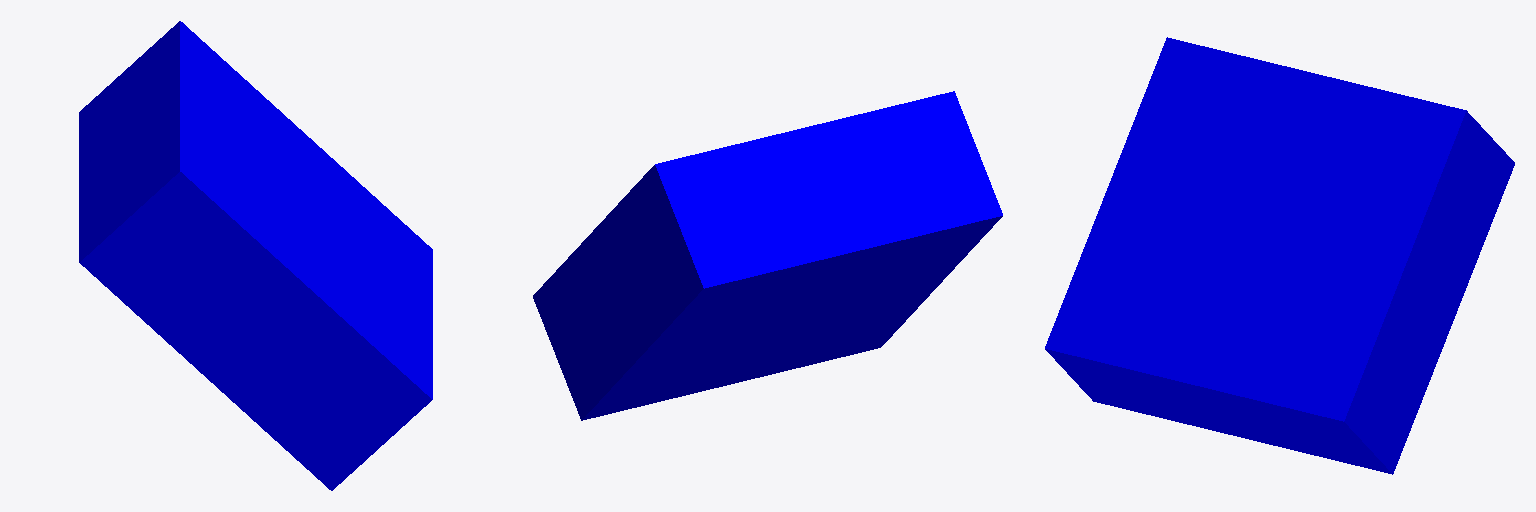
URDF robot description (panda):
<?xml version="1.0" ?>
<!-- =================================================================================== -->
<!-- |    This document was autogenerated by xacro from [local-path]/ws/src/panda_configuration/panda_description/urdf/panda.urdf.xacro | -->
<!-- |    EDITING THIS FILE BY HAND IS NOT RECOMMENDED                                 | -->
<!-- =================================================================================== -->
<!-- URDF for Franka Emika Panda -->
<robot name="panda">
  <link name="world">
    <inertial>
      <mass value="1e-5"/>
      <inertia ixx="1e-35" ixy="0.0" ixz="0.0" iyy="1e-35" iyz="0.0" izz="1e-35"/>
    </inertial>
  </link>
  <gazebo reference="world_virtual_joint">
    <preserveFixedJoint>true</preserveFixedJoint>
    <disableFixedJointLumping>true</disableFixedJointLumping>
  </gazebo>
  <joint name="panda_joint_base" type="fixed">
    <parent link="world"/>
    <child link="panda_link0"/>
    <origin rpy="0 0 0" xyz="1 0 0"/>
  </joint>
  <gazebo reference="panda_joint_base">
    <preserveFixedJoint>true</preserveFixedJoint>
    <disableFixedJointLumping>true</disableFixedJointLumping>
  </gazebo>
  <link name="panda_link0">
    <visual>
      <origin rpy="0 0 0" xyz="0 0 0"/>
      <geometry>
        <mesh filename="package://panda_description/meshes/visual/link0.dae"/>
      </geometry>
    </visual>
    <inertial>
      <origin rpy="0 0 0" xyz="-0.025566 -2.87883e-05 0.057332"/>
      <mass value="2.814271300104062"/>
      <inertia ixx="0.0075390636364814695" ixy="-1.5053124574783335e-05" ixz="-0.0012144328835738973" iyy="0.010508017427382959" iyz="1.0434803501032979e-05" izz="0.009864933638708275"/>
    </inertial>
  </link>
  <gazebo reference="panda_link0">
    <mu1 value="0.85"/>
    <mu2 value="0.85"/>
  </gazebo>
  <joint name="panda_joint1" type="revolute">
    <parent link="panda_link0"/>
    <child link="panda_link1"/>
    <origin rpy="0 0 0" xyz="0 0 0.333"/>
    <axis xyz="0 0 1"/>
    <limit effort="87" lower="-2.897246558310587" upper="2.897246558310587" velocity="2.6179938779914944"/>
    <dynamics damping="21.75" friction="3.48"/>
  </joint>
  <transmission name="panda_joint1_transmission">
    <type>transmission_interface/SimpleTransmission</type>
    <joint name="panda_joint1">
      <hardwareInterface>hardware_interface/EffortJointInterface</hardwareInterface>
    </joint>
    <actuator name="panda_joint1_actuator">
      <mechanicalReduction>1</mechanicalReduction>
    </actuator>
  </transmission>
  <gazebo reference="panda_joint1">
    <springStiffness value="0.0"/>
    <springReference value="0.0"/>
  </gazebo>
  <link name="panda_link1">
    <visual>
      <origin rpy="0 0 0" xyz="0 0 0"/>
      <geometry>
        <mesh filename="package://panda_description/meshes/visual/link1.dae"/>
      </geometry>
    </visual>
    <inertial>
      <origin rpy="0 0 0" xyz="-3.72212e-09 -0.0324958 -0.0675818"/>
      <mass value="2.6433170427227215"/>
      <inertia ixx="0.017405076982879724" ixy="-8.687986369621078e-09" ixz="-1.6277819062920423e-08" iyy="0.015352077935781732" iyz="0.004510855959102245" izz="0.005987891663073857"/>
    </inertial>
  </link>
  <gazebo reference="panda_link1">
    <mu1 value="0.85"/>
    <mu2 value="0.85"/>
  </gazebo>
  <joint name="panda_joint2" type="revolute">
    <parent link="panda_link1"/>
    <child link="panda_link2"/>
    <origin rpy="-1.5707963267948966 0 0" xyz="0 0 0"/>
    <axis xyz="0 0 1"/>
    <limit effort="87" lower="-1.7627825445142729" upper="1.7627825445142729" velocity="2.6179938779914944"/>
    <dynamics damping="21.75" friction="3.48"/>
  </joint>
  <transmission name="panda_joint2_transmission">
    <type>transmission_interface/SimpleTransmission</type>
    <joint name="panda_joint2">
      <hardwareInterface>hardware_interface/EffortJointInterface</hardwareInterface>
    </joint>
    <actuator name="panda_joint2_actuator">
      <mechanicalReduction>1</mechanicalReduction>
    </actuator>
  </transmission>
  <gazebo reference="panda_joint2">
    <springStiffness value="0.0"/>
    <springReference value="0.0"/>
  </gazebo>
  <link name="panda_link2">
    <visual>
      <origin rpy="0 0 0" xyz="0 0 0"/>
      <geometry>
        <mesh filename="package://panda_description/meshes/visual/link2.dae"/>
      </geometry>
    </visual>
    <inertial>
      <origin rpy="0 0 0" xyz="3.17833e-07 -0.06861 0.0322285"/>
      <mass value="2.6652755331661186"/>
      <inertia ixx="0.01778694005635383" ixy="8.70635625879119e-08" ixz="3.752072058394008e-08" iyy="0.006044133867952844" iyz="-0.004599490295490376" izz="0.01571095500455695"/>
    </inertial>
  </link>
  <gazebo reference="panda_link2">
    <mu1 value="0.85"/>
    <mu2 value="0.85"/>
  </gazebo>
  <joint name="panda_joint3" type="revolute">
    <parent link="panda_link2"/>
    <child link="panda_link3"/>
    <origin rpy="1.5707963267948966 0 0" xyz="0 -0.316 0"/>
    <axis xyz="0 0 1"/>
    <limit effort="87" lower="-2.897246558310587" upper="2.897246558310587" velocity="2.6179938779914944"/>
    <dynamics damping="21.75" friction="3.48"/>
  </joint>
  <transmission name="panda_joint3_transmission">
    <type>transmission_interface/SimpleTransmission</type>
    <joint name="panda_joint3">
      <hardwareInterface>hardware_interface/EffortJointInterface</hardwareInterface>
    </joint>
    <actuator name="panda_joint3_actuator">
      <mechanicalReduction>1</mechanicalReduction>
    </actuator>
  </transmission>
  <gazebo reference="panda_joint3">
    <springStiffness value="0.0"/>
    <springReference value="0.0"/>
  </gazebo>
  <link name="panda_link3">
    <visual>
      <origin rpy="0 0 0" xyz="0 0 0"/>
      <geometry>
        <mesh filename="package://panda_description/meshes/visual/link3.dae"/>
      </geometry>
    </visual>
    <inertial>
      <origin rpy="0 0 0" xyz="0.0469893 0.0316374 -0.031704"/>
      <mass value="2.3293714829045733"/>
      <inertia ixx="0.0075496764161139766" ixy="-0.0024320464513492225" ixz="-0.003250815048103007" iyy="0.009680676080191398" iyz="-0.0021316282421730694" izz="0.007944557422008086"/>
    </inertial>
  </link>
  <gazebo reference="panda_link3">
    <mu1 value="0.85"/>
    <mu2 value="0.85"/>
  </gazebo>
  <joint name="panda_joint4" type="revolute">
    <parent link="panda_link3"/>
    <child link="panda_link4"/>
    <origin rpy="1.5707963267948966 0 0" xyz="0.0825 0 0"/>
    <axis xyz="0 0 1"/>
    <limit effort="87" lower="-3.07177948351002" upper="-0.06981317007977318" velocity="2.6179938779914944"/>
    <dynamics damping="21.75" friction="3.48"/>
  </joint>
  <transmission name="panda_joint4_transmission">
    <type>transmission_interface/SimpleTransmission</type>
    <joint name="panda_joint4">
      <hardwareInterface>hardware_interface/EffortJointInterface</hardwareInterface>
    </joint>
    <actuator name="panda_joint4_actuator">
      <mechanicalReduction>1</mechanicalReduction>
    </actuator>
  </transmission>
  <gazebo reference="panda_joint4">
    <springStiffness value="0.0"/>
    <springReference value="0.0"/>
  </gazebo>
  <link name="panda_link4">
    <visual>
      <origin rpy="0 0 0" xyz="0 0 0"/>
      <geometry>
        <mesh filename="package://panda_description/meshes/visual/link4.dae"/>
      </geometry>
    </visual>
    <inertial>
      <origin rpy="0 0 0" xyz="-0.0360505 0.0337069 0.0319019"/>
      <mass value="2.3104763646281508"/>
      <inertia ixx="0.007764568814864828" ixy="0.003371475204045935" ixz="-0.002343621113168248" iyy="0.008015776929980149" iyz="0.0022917526161470624" izz="0.009955882308071066"/>
    </inertial>
  </link>
  <gazebo reference="panda_link4">
    <mu1 value="0.85"/>
    <mu2 value="0.85"/>
  </gazebo>
  <joint name="panda_joint5" type="revolute">
    <parent link="panda_link4"/>
    <child link="panda_link5"/>
    <origin rpy="-1.5707963267948966 0 0" xyz="-0.0825 0.384 0"/>
    <axis xyz="0 0 1"/>
    <limit effort="12" lower="-2.897246558310587" upper="2.897246558310587" velocity="3.141592653589793"/>
    <dynamics damping="3.0" friction="0.48"/>
  </joint>
  <transmission name="panda_joint5_transmission">
    <type>transmission_interface/SimpleTransmission</type>
    <joint name="panda_joint5">
      <hardwareInterface>hardware_interface/EffortJointInterface</hardwareInterface>
    </joint>
    <actuator name="panda_joint5_actuator">
      <mechanicalReduction>1</mechanicalReduction>
    </actuator>
  </transmission>
  <gazebo reference="panda_joint5">
    <springStiffness value="0.0"/>
    <springReference value="0.0"/>
  </gazebo>
  <link name="panda_link5">
    <visual>
      <origin rpy="0 0 0" xyz="0 0 0"/>
      <geometry>
        <mesh filename="package://panda_description/meshes/visual/link5.dae"/>
      </geometry>
    </visual>
    <inertial>
      <origin rpy="0 0 0" xyz="-6.12525e-06 0.0610427 -0.104176"/>
      <mass value="2.6226426154892004"/>
      <inertia ixx="0.029070538014399377" ixy="6.208738268725568e-07" ixz="-1.0059151925023392e-05" iyy="0.027638529986528795" iyz="-0.007424306477850814" izz="0.004251111234400737"/>
    </inertial>
  </link>
  <gazebo reference="panda_link5">
    <mu1 value="0.85"/>
    <mu2 value="0.85"/>
  </gazebo>
  <joint name="panda_joint6" type="revolute">
    <parent link="panda_link5"/>
    <child link="panda_link6"/>
    <origin rpy="0.5235987755982988 0 0" xyz="0 0 0"/>
    <axis xyz="0 0 1"/>
    <limit effort="12" lower="-0.017453292519943295" upper="3.752457891787808" velocity="3.141592653589793"/>
    <dynamics damping="3.0" friction="0.48"/>
  </joint>
  <transmission name="panda_joint6_transmission">
    <type>transmission_interface/SimpleTransmission</type>
    <joint name="panda_joint6">
      <hardwareInterface>hardware_interface/EffortJointInterface</hardwareInterface>
    </joint>
    <actuator name="panda_joint6_actuator">
      <mechanicalReduction>1</mechanicalReduction>
    </actuator>
  </transmission>
  <gazebo reference="panda_joint6">
    <springStiffness value="0.0"/>
    <springReference value="0.0"/>
  </gazebo>
  <link name="panda_link6">
    <visual>
      <origin rpy="0 0 0" xyz="0 0 0"/>
      <geometry>
        <mesh filename="package://panda_description/meshes/visual/link6.dae"/>
      </geometry>
    </visual>
    <inertial>
      <origin rpy="0 0 0" xyz="0.051051 0.00910797 0.0106343"/>
      <mass value="1.5025804886626795"/>
      <inertia ixx="0.002940555801469018" ixy="-0.00042391108351381507" ixz="0.000610007735338717" iyy="0.00392105201248677" iyz="0.00012647545430836214" izz="0.0054115603870960195"/>
    </inertial>
  </link>
  <gazebo reference="panda_link6">
    <mu1 value="0.85"/>
    <mu2 value="0.85"/>
  </gazebo>
  <joint name="panda_joint7" type="revolute">
    <parent link="panda_link6"/>
    <child link="panda_link7"/>
    <origin rpy="1.5707963267948966 0 0" xyz="0.088 0 0"/>
    <axis xyz="0 0 1"/>
    <limit effort="12" lower="-2.897246558310587" upper="2.897246558310587" velocity="3.141592653589793"/>
    <dynamics damping="3.0" friction="0.48"/>
  </joint>
  <transmission name="panda_joint7_transmission">
    <type>transmission_interface/SimpleTransmission</type>
    <joint name="panda_joint7">
      <hardwareInterface>hardware_interface/EffortJointInterface</hardwareInterface>
    </joint>
    <actuator name="panda_joint7_actuator">
      <mechanicalReduction>1</mechanicalReduction>
    </actuator>
  </transmission>
  <gazebo reference="panda_joint7">
    <springStiffness value="0.0"/>
    <springReference value="0.0"/>
  </gazebo>
  <link name="panda_link7">
    <visual>
      <origin rpy="0 0 0" xyz="0 0 0"/>
      <geometry>
        <mesh filename="package://panda_description/meshes/visual/link7.dae"/>
      </geometry>
    </visual>
    <inertial>
      <origin rpy="0 0 0" xyz="0.0109695 0.0107965 0.0650412"/>
      <mass value="0.5237668134788256"/>
      <inertia ixx="0.0008621467959726535" ixy="-0.00011871071570425467" ixz="3.866602604509339e-05" iyy="0.0008613100184801048" iyz="-9.057841649422724e-05" izz="0.0006961139396618219"/>
    </inertial>
  </link>
  <gazebo reference="panda_link7">
    <mu1 value="0.85"/>
    <mu2 value="0.85"/>
  </gazebo>
  <!-- Camera_1 Link-->
  <link name="panda_camera_link">
    <visual>
      <geometry>
        <box size="0.05 0.05 0.02"/>
      </geometry>
      <material name="black">
        <color rgba="0 0 1 1"/>
      </material>
    </visual>
  </link>
  <gazebo reference="panda_camera_link">
    <sensor name="camera" type="camera">
      <camera>
        <horizontal_fov> 2.0 </horizontal_fov>
        <image>
          <width>1920</width>
          <height>1080</height>
        </image>
        <clip>
          <near>0.01</near>
          <far>10</far>
        </clip>
      </camera>
      <always_on>1</always_on>
      <update_rate>30</update_rate>
      <visualize>true</visualize>
      <topic>camera</topic>
    </sensor>
  </gazebo>
  <joint name="panda_camera_joint" type="fixed">
    <parent link="panda_link8"/>
    <child link="panda_camera_link"/>
    <origin rpy="0 -1.5707963267948966 3.141592653589793" xyz="0 0 0.05"/>
  </joint>
  <link name="panda_link8">
    <inertial>
      <mass value="1e-5"/>
      <inertia ixx="1e-35" ixy="0.0" ixz="0.0" iyy="1e-35" iyz="0.0" izz="1e-35"/>
    </inertial>
  </link>
  <gazebo reference="panda_link8_virtual_joint">
    <preserveFixedJoint>true</preserveFixedJoint>
    <disableFixedJointLumping>true</disableFixedJointLumping>
  </gazebo>
  <joint name="panda_link8_virtual_joint" type="fixed">
    <parent link="panda_link7"/>
    <child link="panda_link8"/>
    <origin rpy="0 0 -0.7853981633974483" xyz="0 0 0.1"/>
  </joint>
  <ros2_control name="panda_arm_system" type="system">
    <hardware>
      <plugin>gz_ros2_control/GazeboSimSystem</plugin>
    </hardware>
    <joint name="panda_joint1">
      <param name="initial_position">0.0</param>
      <command_interface name="position"/>
      <state_interface name="position"/>
      <state_interface name="velocity"/>
      <state_interface name="effort"/>
    </joint>
    <joint name="panda_joint2">
      <param name="initial_position">-0.7853981633974483</param>
      <command_interface name="position"/>
      <state_interface name="position"/>
      <state_interface name="velocity"/>
      <state_interface name="effort"/>
    </joint>
    <joint name="panda_joint3">
      <param name="initial_position">0.0</param>
      <command_interface name="position"/>
      <state_interface name="position"/>
      <state_interface name="velocity"/>
      <state_interface name="effort"/>
    </joint>
    <joint name="panda_joint4">
      <param name="initial_position">-2.356194490192345</param>
      <command_interface name="position"/>
      <state_interface name="position"/>
      <state_interface name="velocity"/>
      <state_interface name="effort"/>
    </joint>
    <joint name="panda_joint5">
      <param name="initial_position">0.0</param>
      <command_interface name="position"/>
      <state_interface name="position"/>
      <state_interface name="velocity"/>
      <state_interface name="effort"/>
    </joint>
    <joint name="panda_joint6">
      <param name="initial_position">1.5707963267948966</param>
      <command_interface name="position"/>
      <state_interface name="position"/>
      <state_interface name="velocity"/>
      <state_interface name="effort"/>
    </joint>
    <joint name="panda_joint7">
      <param name="initial_position">0.7853981633974483</param>
      <command_interface name="position"/>
      <state_interface name="position"/>
      <state_interface name="velocity"/>
      <state_interface name="effort"/>
    </joint>
  </ros2_control>
  <joint name="panda_joint_wrist" type="fixed">
    <parent link="panda_link8"/>
    <child link="panda_hand"/>
    <origin rpy="0 0 0" xyz="0 0 0"/>
  </joint>
  <gazebo reference="panda_joint_wrist">
    <preserveFixedJoint>true</preserveFixedJoint>
    <disableFixedJointLumping>true</disableFixedJointLumping>
  </gazebo>
  <link name="panda_hand">
    <visual>
      <origin rpy="0 0 0" xyz="0 0 0"/>
      <geometry>
        <mesh filename="package://panda_description/meshes/visual/hand.dae"/>
      </geometry>
    </visual>
    <inertial>
      <origin rpy="0 0 0" xyz="-6.7624e-06 0.00152435 0.0275912"/>
      <mass value="0.14060765127978503"/>
      <inertia ixx="0.0005365450414352072" ixy="1.7911952957732454e-08" ixz="-2.320071910601251e-08" iyy="7.70511954783727e-05" iyz="4.681149945315967e-08" izz="0.0004938176882694914"/>
    </inertial>
  </link>
  <gazebo reference="panda_hand">
    <mu1 value="0.85"/>
    <mu2 value="0.85"/>
  </gazebo>
  <joint name="panda_finger_joint1" type="prismatic">
    <parent link="panda_hand"/>
    <child link="panda_leftfinger"/>
    <origin rpy="0 0 0" xyz="0 0 0.0584"/>
    <axis xyz="0 1 0"/>
    <limit effort="20" lower="0" upper="0.07" velocity="0.2"/>
    <dynamics damping="3.0" friction="0.4"/>
  </joint>
  <transmission name="panda_finger_joint1_transmission">
    <type>transmission_interface/SimpleTransmission</type>
    <joint name="panda_finger_joint1">
      <hardwareInterface>hardware_interface/EffortJointInterface</hardwareInterface>
    </joint>
    <actuator name="panda_finger_joint1_actuator">
      <mechanicalReduction>1</mechanicalReduction>
    </actuator>
  </transmission>
  <gazebo reference="panda_finger_joint1">
    <springStiffness value="0.0"/>
    <springReference value="0.0"/>
  </gazebo>
  <link name="panda_leftfinger">
    <visual>
      <origin rpy="0 0 0" xyz="0 0 0"/>
      <geometry>
        <mesh filename="package://panda_description/meshes/visual/finger.dae"/>
      </geometry>
    </visual>
    <inertial>
      <origin rpy="0 0 0" xyz="-6.2561e-06 0.00227781 -0.0277116"/>
      <mass value="0.2238453537819424"/>
      <inertia ixx="6.74804167363695e-05" ixy="-4.1027443646025676e-09" ixz="1.8693673970152995e-08" iyy="6.627189221641395e-05" iyz="1.1967548474390802e-05" izz="1.550396267804825e-05"/>
    </inertial>
  </link>
  <gazebo reference="panda_leftfinger">
    <mu1 value="1.13"/>
    <mu2 value="1.13"/>
  </gazebo>
  <joint name="panda_finger_joint2" type="prismatic">
    <parent link="panda_hand"/>
    <child link="panda_rightfinger"/>
    <origin rpy="0 0 0" xyz="0 0 0.0584"/>
    <axis xyz="0 -1 0"/>
    <limit effort="20" lower="0" upper="0.07" velocity="0.2"/>
    <dynamics damping="3.0" friction="0.4"/>
  </joint>
  <transmission name="panda_finger_joint2_transmission">
    <type>transmission_interface/SimpleTransmission</type>
    <joint name="panda_finger_joint2">
      <hardwareInterface>hardware_interface/EffortJointInterface</hardwareInterface>
    </joint>
    <actuator name="panda_finger_joint2_actuator">
      <mechanicalReduction>1</mechanicalReduction>
    </actuator>
  </transmission>
  <gazebo reference="panda_finger_joint2">
    <springStiffness value="0.0"/>
    <springReference value="0.0"/>
  </gazebo>
  <link name="panda_rightfinger">
    <visual>
      <origin rpy="0 0 3.141592653589793" xyz="0 0 0"/>
      <geometry>
        <mesh filename="package://panda_description/meshes/visual/finger.dae"/>
      </geometry>
    </visual>
    <inertial>
      <origin rpy="0 0 3.141592653589793" xyz="-6.2561e-06 0.00227781 -0.0277116"/>
      <mass value="0.2238453537819424"/>
      <inertia ixx="6.74804167363695e-05" ixy="-4.1027443646025676e-09" ixz="1.8693673970152995e-08" iyy="6.627189221641395e-05" iyz="1.1967548474390802e-05" izz="1.550396267804825e-05"/>
    </inertial>
  </link>
  <gazebo reference="panda_rightfinger">
    <mu1 value="1.13"/>
    <mu2 value="1.13"/>
  </gazebo>
  <link name="panda_hand_tcp">
    <inertial>
      <mass value="1e-5"/>
      <inertia ixx="1e-35" ixy="0.0" ixz="0.0" iyy="1e-35" iyz="0.0" izz="1e-35"/>
    </inertial>
  </link>
  <gazebo reference="panda_hand_tcp_virtual_joint">
    <preserveFixedJoint>true</preserveFixedJoint>
    <disableFixedJointLumping>true</disableFixedJointLumping>
  </gazebo>
  <joint name="panda_hand_tcp_virtual_joint" type="fixed">
    <parent link="panda_hand"/>
    <child link="panda_hand_tcp"/>
    <origin rpy="0 0 0" xyz="0 0 0.1034"/>
  </joint>
  <ros2_control name="panda_gripper_system" type="system">
    <hardware>
      <plugin>gz_ros2_control/GazeboSimSystem</plugin>
    </hardware>
    <joint name="panda_finger_joint1">
      <param name="initial_position">0.0</param>
      <command_interface name="position"/>
      <state_interface name="position"/>
      <state_interface name="velocity"/>
      <state_interface name="effort"/>
    </joint>
    <joint name="panda_finger_joint2">
      <param name="initial_position">0.0</param>
      <command_interface name="position"/>
      <state_interface name="position"/>
      <state_interface name="velocity"/>
      <state_interface name="effort"/>
    </joint>
  </ros2_control>
  <gazebo>
    <plugin filename="libgz_ros2_control-system.so" name="gz_ros2_control::GazeboSimROS2ControlPlugin">
      <parameters>[local-path]/ws/install/panda_moveit_config/share/panda_moveit_config/config/controllers_position.yaml</parameters>
    </plugin>
  </gazebo>
  <gazebo>
    <plugin filename="libgz-sim-detachable-joint-system.so" name="gz::sim::systems::DetachableJoint">
      <parent_link>panda_link7</parent_link>
      <child_model>scatola</child_model>
      <child_link>scatola_link</child_link>
      <initially_attached>0</initially_attached>
      <output_topic>/panda/state</output_topic>
      <attach_topic>/panda/attach</attach_topic>
      <detach_topic>/panda/detach</detach_topic>
      <joint_type>fixed</joint_type>
    </plugin>
  </gazebo>
</robot>

--- What the picture shows (computed from the rendered views, not written in the file) ---
3 views of the same robot in one strip: view 1: azimuth 30°, elevation 25°; view 2: azimuth 150°, elevation 25°; view 3: azimuth 270°, elevation 25° (orthographic).
Model panda with 15 links and 14 joints (7 revolute, 2 prismatic, 5 fixed), rooted at world, posed all joints at 0 but 1 set to mid-range because 0 is outside their limits (panda_joint4 = -1.57).
Visible links, largest first — view 1: panda_camera_link; view 2: panda_camera_link; view 3: panda_camera_link.
Link boxes in pixels (x1,y1,x2,y2): panda_camera_link: (79, 21, 432, 490); panda_camera_link: (533, 91, 1002, 420); panda_camera_link: (1045, 37, 1514, 474).
Bounding box of the posed robot: 0.0679 × 0.0681 × 0.0495 m (x, y, z).
0 mesh visuals loaded from 10 distinct referenced files (none loaded); not drawn: 11 (reference not matched to a file when rendering).